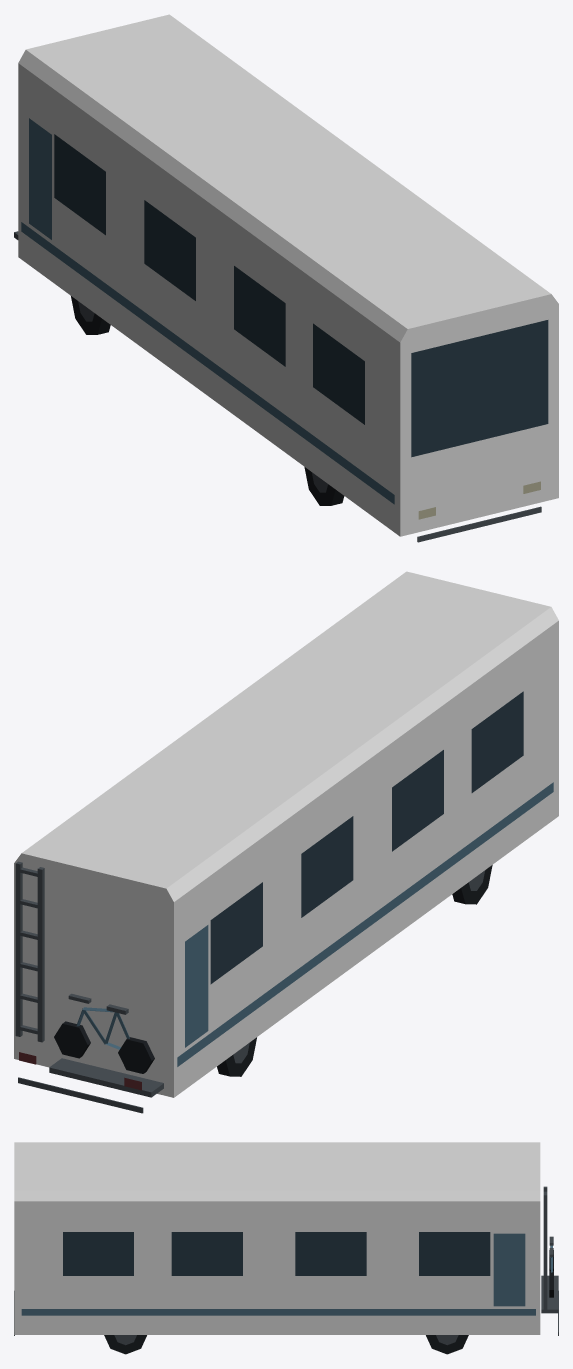
The model's file is snowbird-rv.glb.
3 renders of one model, top to bottom at view 1: azimuth 30°, elevation 25°; view 2: azimuth 150°, elevation 25°; view 3: azimuth 270°, elevation 25°, orthographic. The views are drawn at different scales.
Parts seen in each view (by area): view 1: vehicle_body; view 2: vehicle_body; view 3: vehicle_body.
Part boxes in pixels (left/top/right/bottom): vehicle_body: left=14, top=14, right=558, bottom=542; vehicle_body: left=14, top=571, right=558, bottom=1113; vehicle_body: left=14, top=1142, right=558, bottom=1354.
Bounding box in the file's own units: 2.56 × 3.6 × 11.02.
